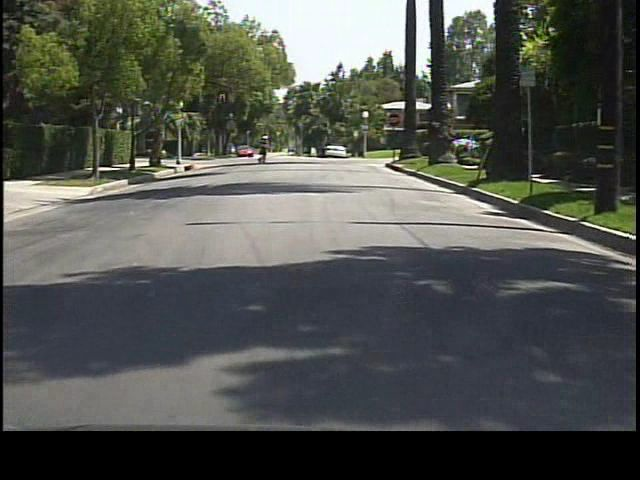person: (257, 135, 271, 167)
